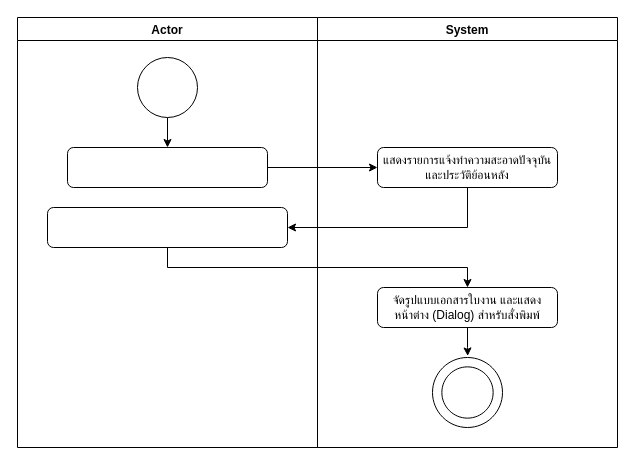
The diagram is 635 pixels wide and 465 high, and some of its shapes have lost their labels. Each missing label, with the centre of its shape:
เลือกรายการแจ้งทำความสะอาด และกดปุ่ม "พิมพ์ใบแจ้งทำความสะอาด": point 167,227
เลือกเมนู "แจ้งทำความสะอาด": point 167,167
